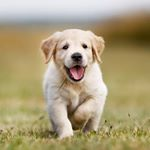puppy: (36, 23, 112, 145)
